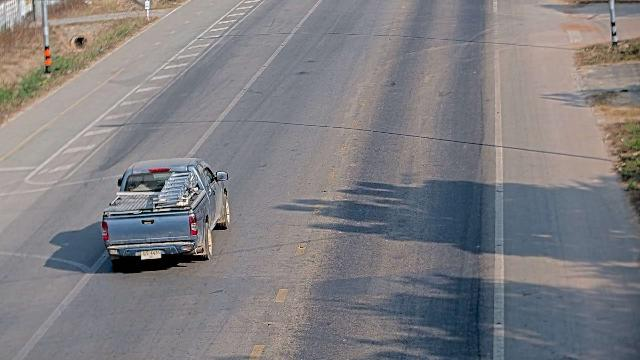pickup-truck: (100, 157, 231, 266)
